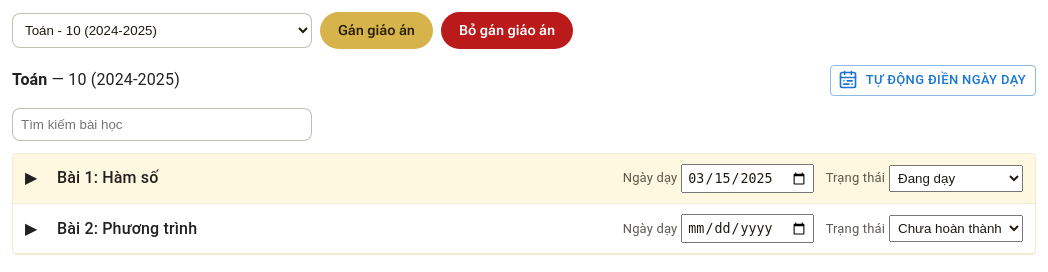
Test case: ClassLessonPlanTab › shows no results message when search has no matches
Expected: the text "Bài 1: Hàm số" is shown, [57,168,158,187]
Type "xyz không tồn tại" into the field with placeholder "Tìm kiếm bài học" at [162, 124], box [12,108,312,140]
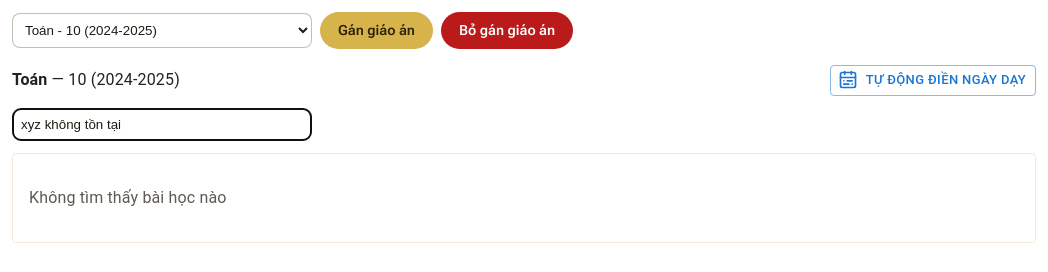
Expected: the text "Không tìm thấy bài học nào" is shown, [29,188,226,206]
